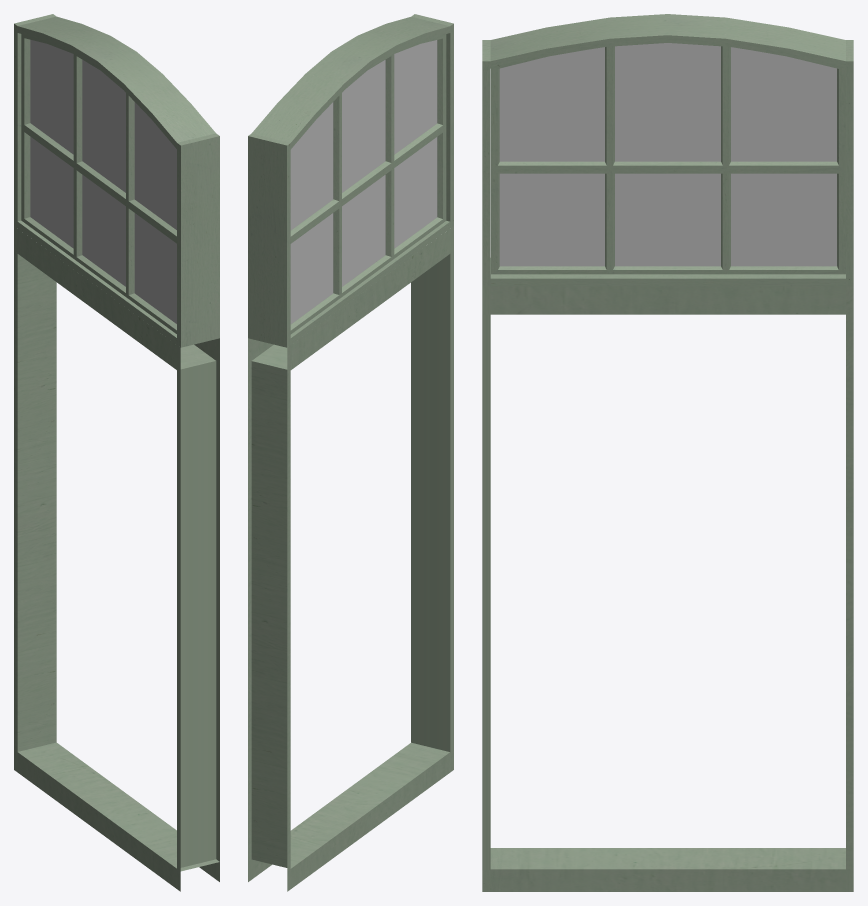
Rendered from SM_WW39_Frame.fbx.
The picture shows the model from 3 angles, left to right: view 1: azimuth 30°, elevation 25°; view 2: azimuth 150°, elevation 25°; view 3: azimuth 270°, elevation 25°; orthographic projection. The views are drawn at different scales.
Visible parts, largest first — view 1: SM_WW39_Frame; view 2: SM_WW39_Frame; view 3: SM_WW39_Frame.
Part boxes in pixels (x1,y1,x2,y2): SM_WW39_Frame: [14, 14, 219, 891]; SM_WW39_Frame: [248, 14, 453, 891]; SM_WW39_Frame: [482, 14, 853, 891].
Bounding box in the file's own units: 18.26 × 135 × 343.
2 materials, 1 textured.
